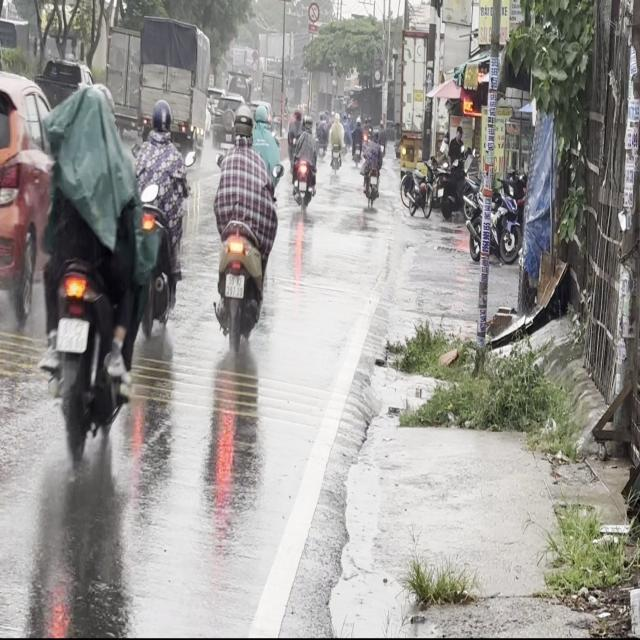helmet: (232, 103, 253, 143), (150, 97, 171, 136), (253, 102, 268, 127)
licenseplate: (36, 76, 141, 480), (210, 100, 277, 355), (131, 95, 189, 348)
nohelmet: (56, 318, 88, 352), (225, 273, 244, 297)
